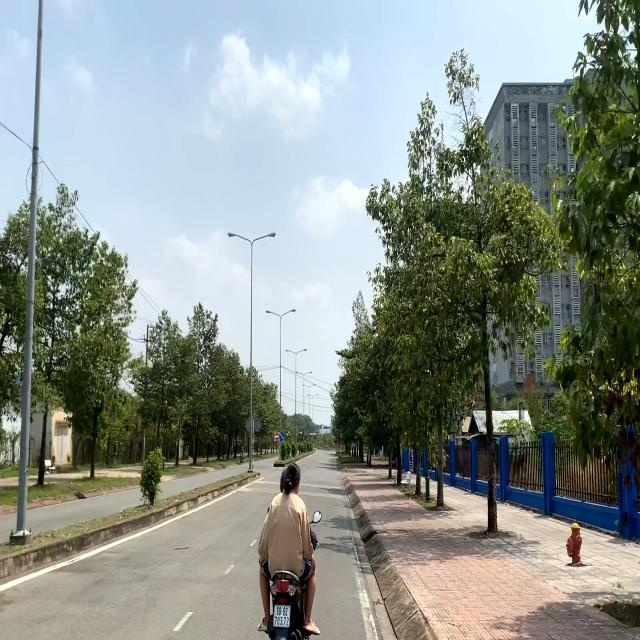bien_hieu_lenh: (274, 432, 279, 441), (279, 432, 284, 441)
